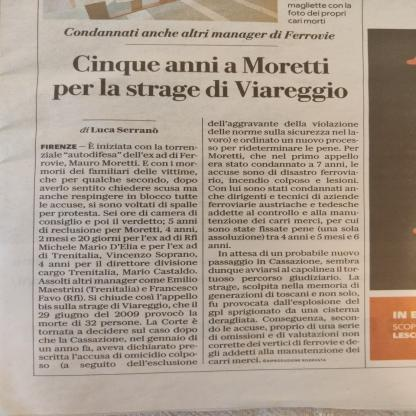testo_col: (202, 115, 367, 371), (34, 139, 204, 378)
titolo: (44, 48, 356, 114)
